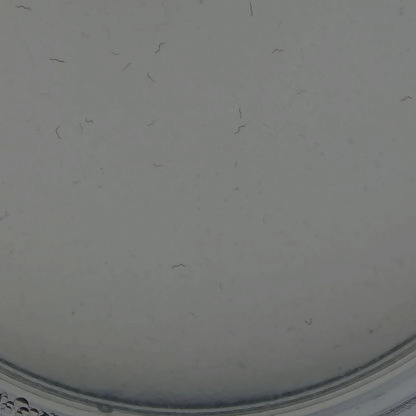worm: (16, 0, 37, 23), (395, 3, 413, 27), (232, 122, 253, 141), (168, 261, 191, 275), (232, 104, 251, 120), (48, 54, 69, 68), (242, 0, 257, 19), (299, 317, 319, 331), (51, 124, 67, 141), (398, 94, 416, 106), (148, 161, 169, 171), (120, 59, 134, 74), (144, 70, 158, 85), (0, 210, 13, 225), (82, 113, 95, 127), (69, 176, 83, 188), (103, 47, 121, 56), (271, 43, 283, 55), (76, 123, 87, 136), (143, 118, 157, 128), (293, 88, 309, 96)
